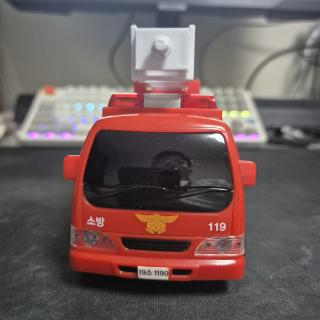Fire_truck: (64, 25, 256, 280)
